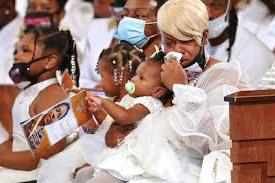mask_weared_incorrect: (1, 44, 33, 82), (162, 37, 195, 71), (206, 1, 226, 34)
with_mask: (119, 5, 150, 40), (24, 2, 57, 23)
without_mask: (123, 67, 152, 96), (43, 103, 69, 127), (94, 66, 110, 95)
